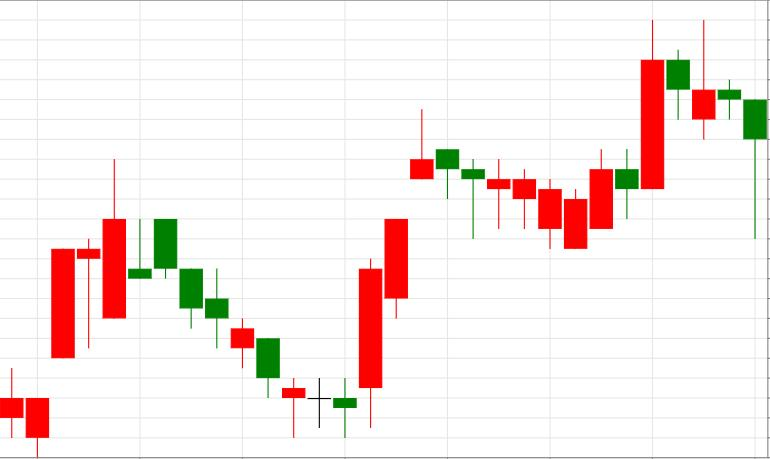hammer_rise: (666, 21, 768, 238)
shooting_star_fall: (333, 108, 434, 437)
